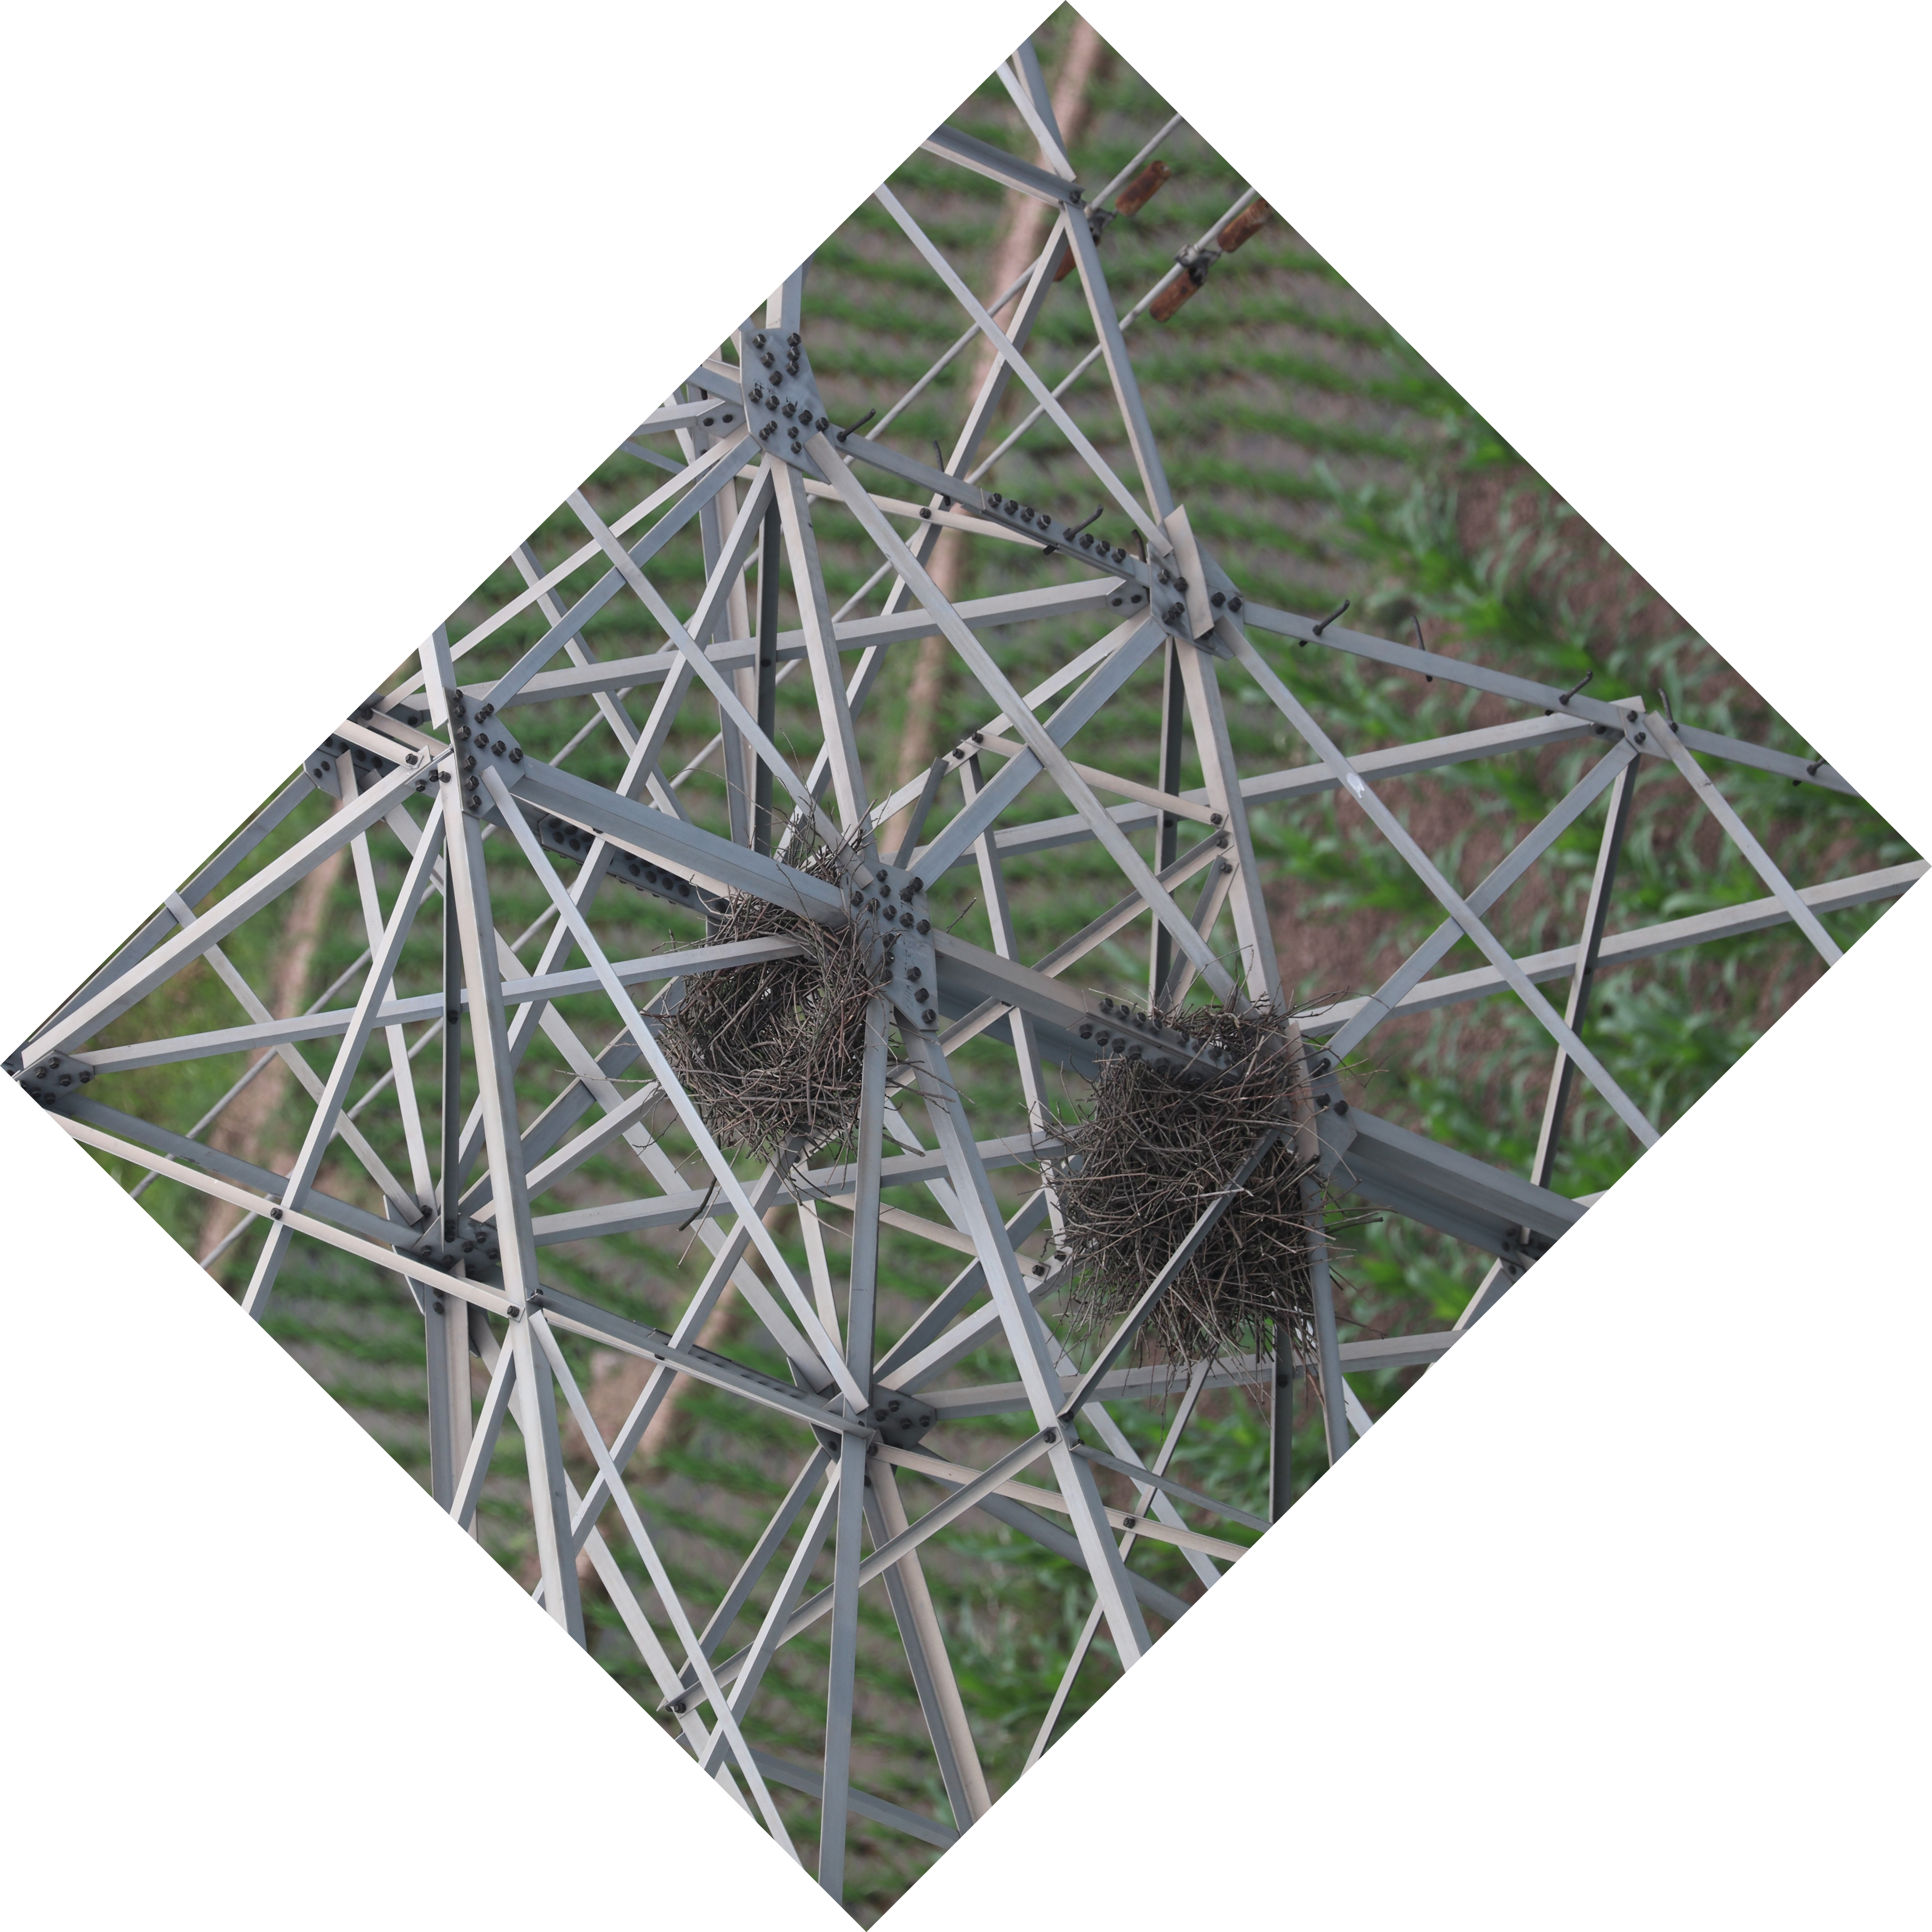niaowo: (1023, 993, 1350, 1350), (649, 821, 915, 1161)
